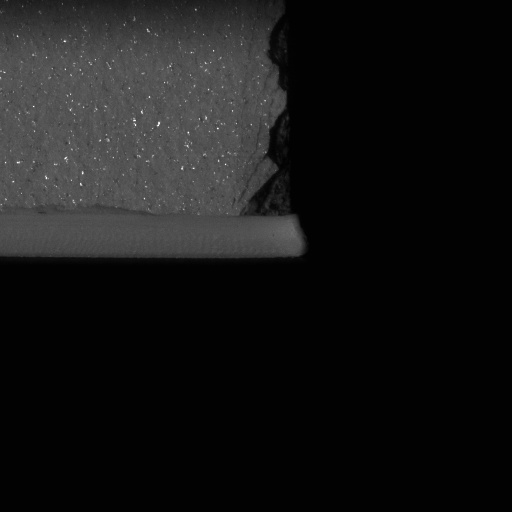bengque: (261, 10, 296, 93), (237, 172, 295, 220), (266, 94, 295, 168)
